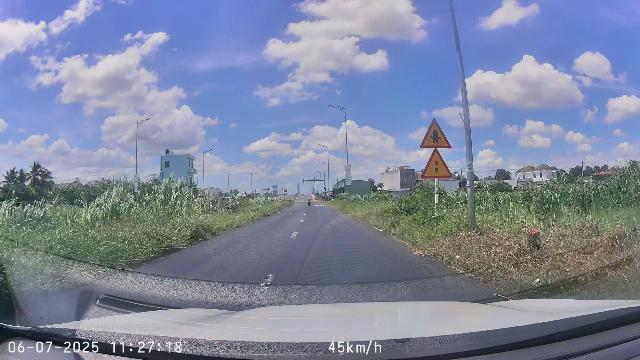207-giao-nhau-voi-duong-khong-uu-tien: (419, 117, 452, 149)
209-giao-nhau-co-tin-hieu-den: (421, 148, 452, 179)
